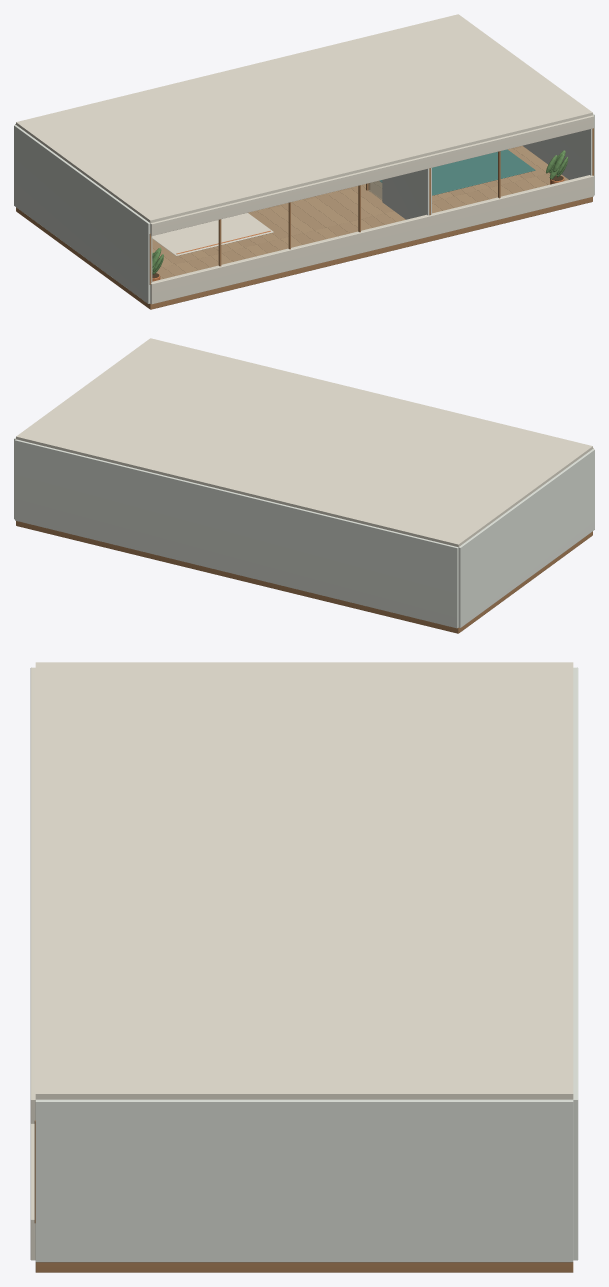
The model's file is architecture.glb.
3 views of the same model, one above another, from view 1: azimuth 30°, elevation 25°; view 2: azimuth 150°, elevation 25°; view 3: azimuth 270°, elevation 25° (orthographic). The views are drawn at different scales.
Visible parts, largest first — view 1: Ceiling_Plaster, Window sill wall, North wall, Foundation, OakFloor_0, OakFloor_2, OakFloor_1, Meeting rug, Leaf; view 2: Ceiling_Plaster, North wall, Foundation; view 3: Ceiling_Plaster, North wall, Foundation, Window sill wall.
Part boxes in pixels (x1,y1,x2,y2): Ceiling_Plaster: [16, 14, 592, 223]; Window sill wall: [150, 115, 593, 304]; North wall: [14, 113, 594, 303]; Foundation: [16, 128, 593, 309]; OakFloor_0: [152, 146, 549, 278]; OakFloor_2: [152, 146, 549, 279]; OakFloor_1: [160, 149, 568, 275]; Meeting rug: [380, 149, 535, 195]; Leaf: [152, 150, 568, 274]; Ceiling_Plaster: [16, 338, 592, 547]; North wall: [14, 437, 594, 628]; Foundation: [16, 521, 592, 633]; Ceiling_Plaster: [35, 662, 573, 1099]; North wall: [35, 667, 578, 1262]; Foundation: [34, 1120, 573, 1272]; Window sill wall: [30, 667, 35, 1260].
Size of what is drawn, in the model's own units: 19.18 by 3.67 by 10.18.
